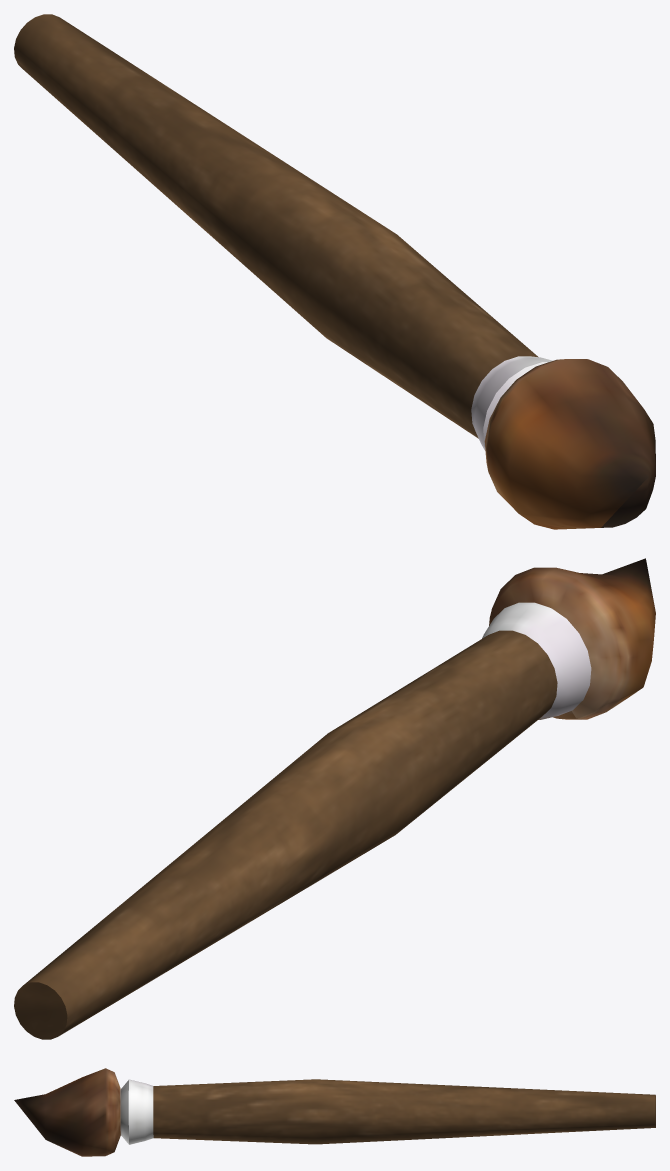
File: Brush01.glb
3 views of the same model, one above another, from view 1: azimuth 30°, elevation 25°; view 2: azimuth 150°, elevation 25°; view 3: azimuth 270°, elevation 25° (orthographic). The views are drawn at different scales.
Visible parts, largest first — view 1: Brush01; view 2: Brush01; view 3: Brush01.
Part boxes in pixels (x1=…): Brush01: x1=14, y1=14, x2=655, y2=529; Brush01: x1=14, y1=558, x2=655, y2=1039; Brush01: x1=14, y1=1068, x2=655, y2=1156.
Bounding box in the file's own units: 0.066 × 0.0659 × 0.4789.
Materials: 1 (1 with a texture image).
